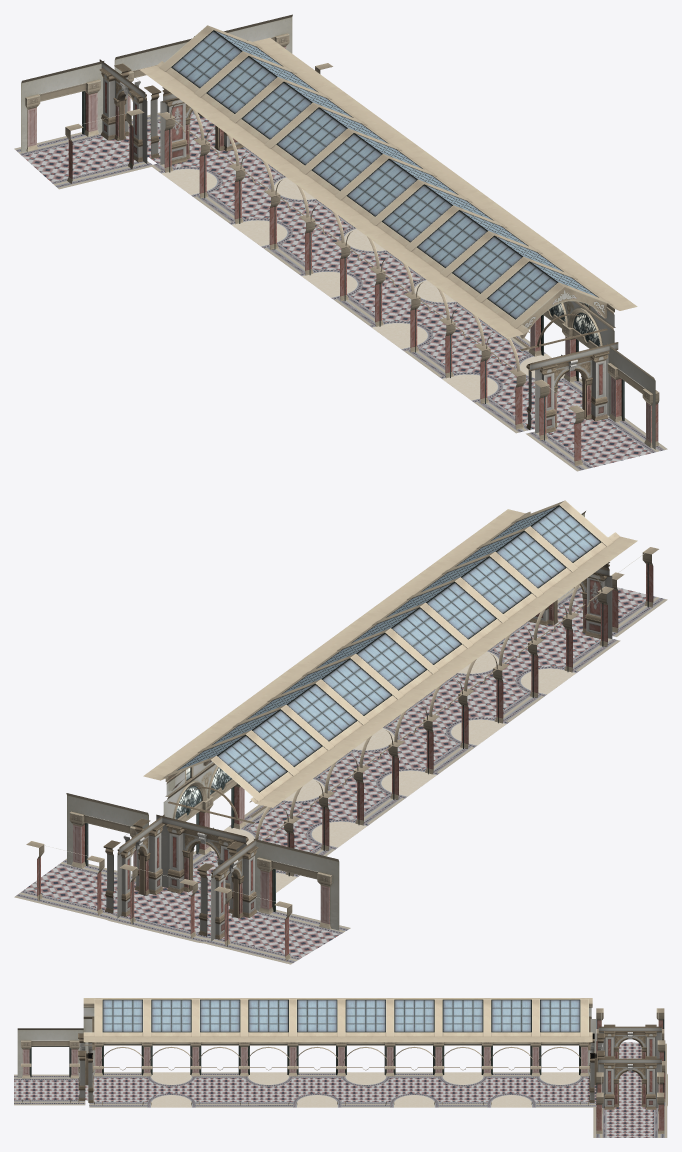
Rendered from t1_b_passage_b.glb.
3 views of the same model, one above another, from view 1: azimuth 30°, elevation 25°; view 2: azimuth 150°, elevation 25°; view 3: azimuth 270°, elevation 25° (orthographic). The views are drawn at different scales.
Parts seen in each view (by area): view 1: um_t1_b_passage_b_model_t1_b_passage_b_modelShape, nomerge_passage_b_windows; view 2: um_t1_b_passage_b_model_t1_b_passage_b_modelShape, nomerge_passage_b_windows; view 3: um_t1_b_passage_b_model_t1_b_passage_b_modelShape, nomerge_passage_b_windows.
Part boxes in pixels (left/top/right/bottom): um_t1_b_passage_b_model_t1_b_passage_b_modelShape: left=14, top=14, right=667, bottom=471; nomerge_passage_b_windows: left=82, top=91, right=624, bottom=440; um_t1_b_passage_b_model_t1_b_passage_b_modelShape: left=14, top=500, right=667, bottom=964; nomerge_passage_b_windows: left=39, top=563, right=648, bottom=946; um_t1_b_passage_b_model_t1_b_passage_b_modelShape: left=14, top=998, right=667, bottom=1137; nomerge_passage_b_windows: left=29, top=1019, right=665, bottom=1092.
Bounding box in the file's own units: 30.05 × 13.18 × 85.82.
10 materials, 10 textured.
